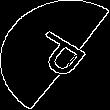P_SE: (19, 25, 91, 85)
